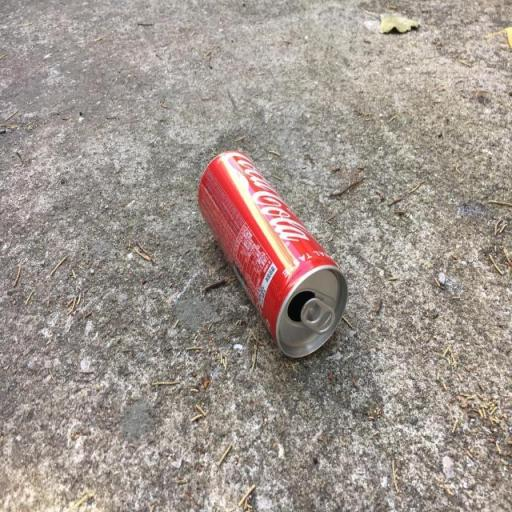metal: (184, 138, 364, 380)
